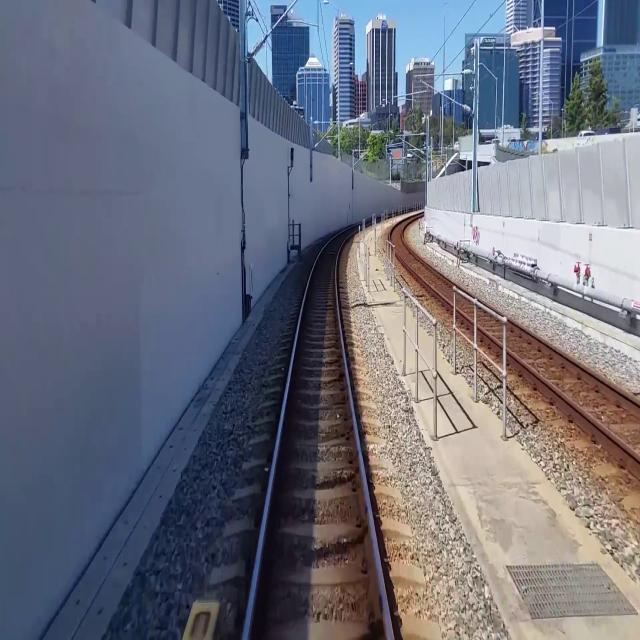rail-track: (390, 212, 640, 453), (248, 225, 388, 639)
